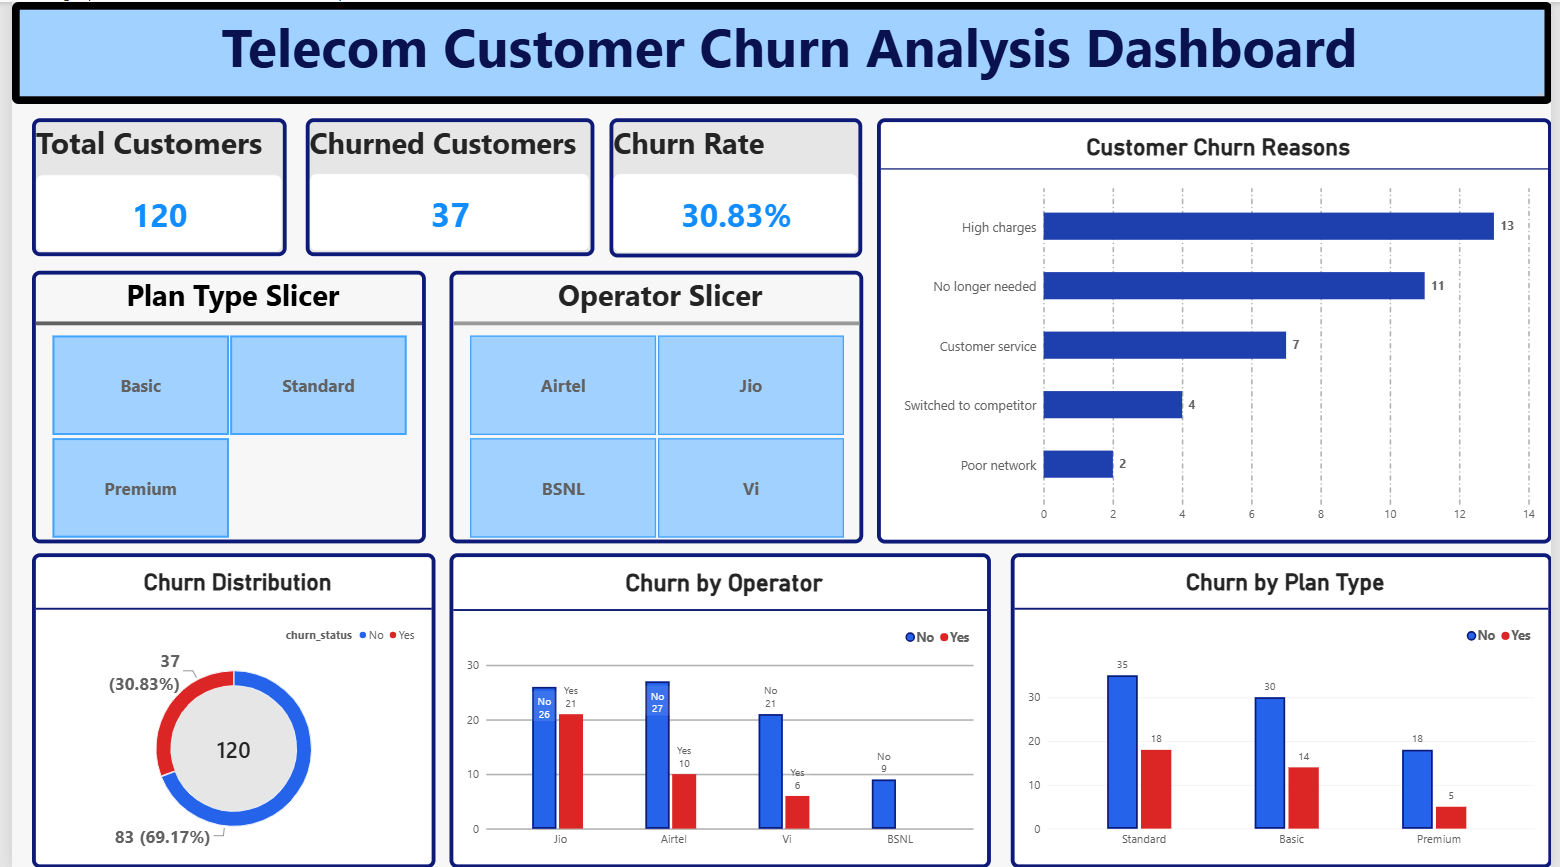

Layout of this report page (visuals, bound fields, positions):
{"tool":"powerbi","page":{"name":"Page 1","canvas":[1920,1080],"ordinal":0},"visuals":[{"type":"textbox","title":"Telecom Customer Churn Analysis Dashboard","box":[0,0,1920.4,127.4],"z":0},{"type":"cardVisual","title":"Total Customers","fields":{"Data":["CountNonNull(telecom_churn_cleaned.customer_id)"]},"box":[24.3,145.5,317.4,171.8],"z":1000},{"type":"cardVisual","title":"Churned Customers","fields":{"Data":["CountNonNull(telecom_churn_cleaned.customer_id)"]},"box":[365.9,145.5,359.8,171.8],"z":2000},{"type":"cardVisual","title":"Churn Rate","fields":{"Data":["telecom_churn_cleaned.Churn Rate"]},"box":[745.9,145.5,315.4,173.8],"z":3000},{"type":"donutChart","title":"Churn Distribution","fields":{"Category":["telecom_churn_cleaned.churn_status"],"Y":["CountNonNull(telecom_churn_cleaned.customer_id)"]},"box":[24.9,687.5,503.5,392.8],"z":4000},{"type":"clusteredColumnChart","title":"Churn by Operator","fields":{"Category":["telecom_churn_cleaned.operator"],"Series":["telecom_churn_cleaned.churn_status"],"Y":["CountNonNull(telecom_churn_cleaned.customer_id)"]},"box":[545.6,687.5,675,392.8],"z":5000},{"type":"clusteredColumnChart","title":"Churn by Plan Type","fields":{"Category":["telecom_churn_cleaned.plan_type"],"Series":["telecom_churn_cleaned.churn_status"],"Y":["CountNonNull(telecom_churn_cleaned.customer_id)"]},"box":[1245.6,687.5,675,392.8],"z":6000},{"type":"clusteredBarChart","title":"Customer Churn Reasons","fields":{"Category":["telecom_churn_cleaned.cancellation_reason"],"Y":["CountNonNull(telecom_churn_cleaned.customer_id)"]},"box":[1078.8,145,841.8,530],"z":7000},{"type":"slicer","title":"Plan Type Slicer","fields":{"Values":["telecom_churn_cleaned.plan_type"]},"box":[24.9,335.2,491.1,339.8],"z":8000},{"type":"slicer","title":"Operator Slicer","fields":{"Values":["telecom_churn_cleaned.operator"]},"box":[545.6,335.2,516,339.8],"z":9000}]}

Visuals, with their boxes in screenshot pixels (x1, y1, x2, y2), scaled from the page's 1920x1080 canvas onto the 1560x867 screenshot:
"Telecom Customer Churn Analysis Dashboard" textbox: locate(0, 0, 1559, 102)
"Total Customers" cardVisual: locate(20, 117, 278, 255)
"Churned Customers" cardVisual: locate(297, 117, 590, 255)
"Churn Rate" cardVisual: locate(606, 117, 862, 256)
"Churn Distribution" donutChart: locate(20, 552, 429, 866)
"Churn by Operator" clusteredColumnChart: locate(443, 552, 992, 866)
"Churn by Plan Type" clusteredColumnChart: locate(1012, 552, 1559, 866)
"Customer Churn Reasons" clusteredBarChart: locate(877, 116, 1559, 542)
"Plan Type Slicer" slicer: locate(20, 269, 419, 542)
"Operator Slicer" slicer: locate(443, 269, 863, 542)
